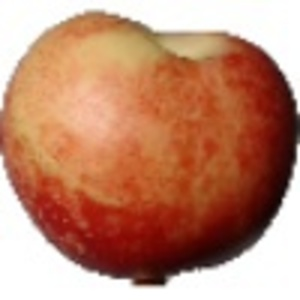nectarina: (1, 9, 300, 289)
